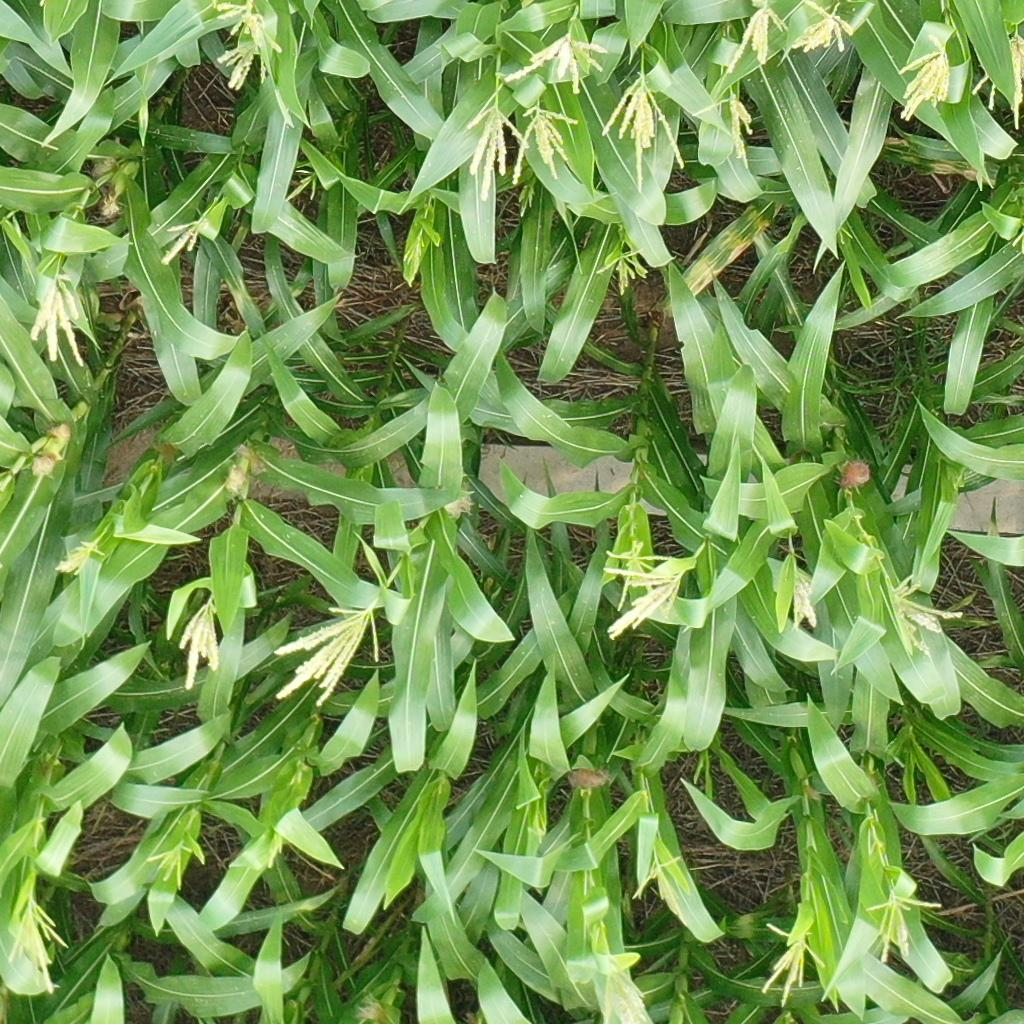Tassel: (276, 595, 383, 707), (601, 72, 685, 193), (602, 565, 693, 644), (503, 32, 610, 98), (886, 571, 963, 659), (464, 104, 530, 201), (862, 886, 943, 965), (759, 919, 827, 1008), (28, 273, 90, 370), (5, 899, 67, 996), (510, 104, 581, 184), (599, 540, 673, 613), (174, 595, 226, 693), (692, 93, 759, 165), (728, 5, 787, 78), (900, 34, 948, 123), (633, 855, 688, 923), (215, 34, 280, 90), (790, 1, 855, 57), (599, 958, 650, 1024), (596, 241, 646, 296), (140, 840, 193, 891), (159, 218, 208, 265), (57, 535, 103, 581), (790, 569, 821, 635), (1006, 32, 1024, 132), (215, 1, 261, 37), (966, 69, 997, 113), (283, 165, 318, 203), (402, 227, 427, 272), (260, 829, 283, 869), (515, 182, 539, 216), (528, 812, 546, 843)
